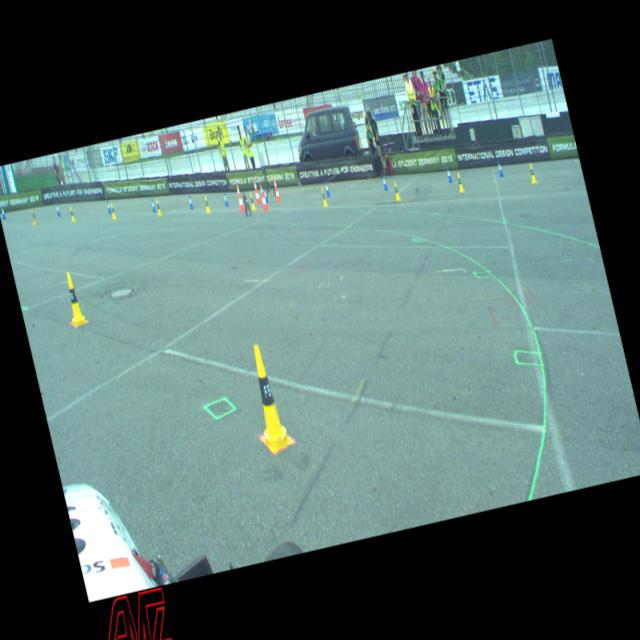blue_cone: (496, 158, 504, 178), (322, 179, 330, 197), (444, 166, 452, 183), (380, 174, 388, 191), (186, 193, 194, 210), (262, 186, 270, 203), (222, 190, 229, 207), (54, 202, 61, 216), (150, 197, 156, 213), (105, 200, 112, 213), (0, 204, 6, 219)
large_orange_cone: (232, 180, 245, 212), (256, 180, 268, 210), (270, 176, 282, 202), (251, 178, 262, 204)
yellow_cone: (240, 341, 294, 455), (60, 270, 88, 328), (454, 170, 464, 192), (527, 162, 537, 184), (392, 180, 401, 201), (319, 186, 328, 206), (202, 194, 211, 214), (108, 202, 117, 220), (248, 191, 256, 211), (154, 198, 162, 217), (68, 204, 76, 222), (30, 208, 38, 225)
